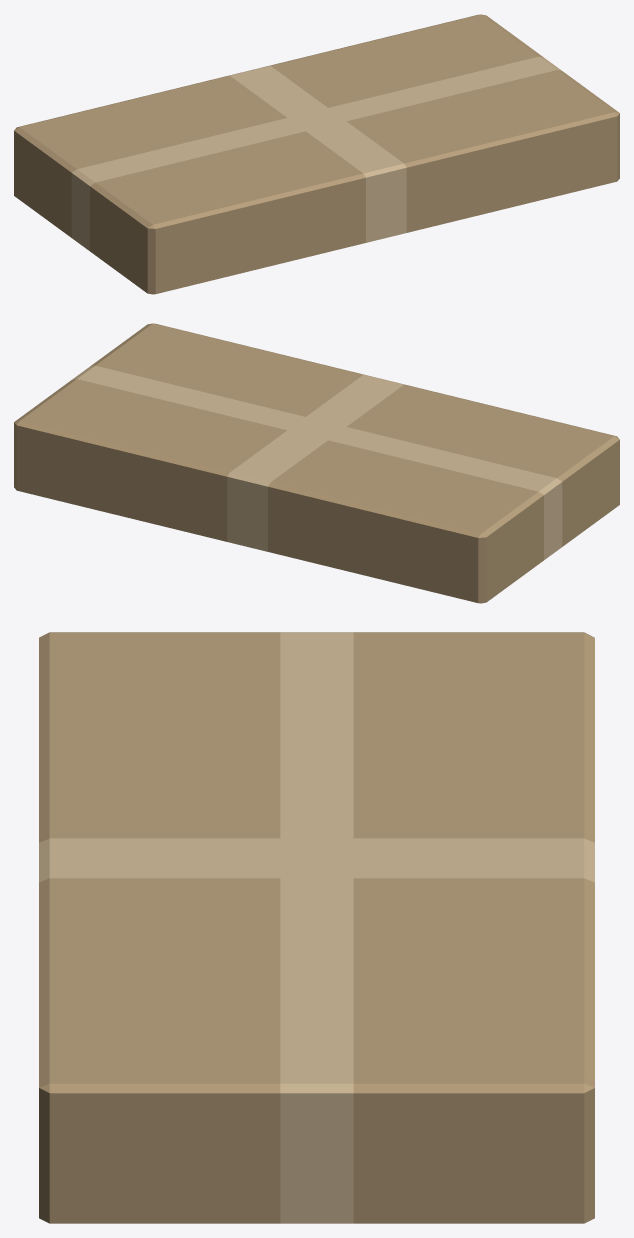
Rendered from Scatolone_3.fbx.
3 views of the same model, one above another, from view 1: azimuth 30°, elevation 25°; view 2: azimuth 150°, elevation 25°; view 3: azimuth 270°, elevation 25° (orthographic). The views are drawn at different scales.
Visible parts, largest first — view 1: Scatolone_3; view 2: Scatolone_3; view 3: Scatolone_3.
Part boxes in pixels (x1,y1,x2,y2): Scatolone_3: [14, 14, 619, 294]; Scatolone_3: [14, 323, 619, 603]; Scatolone_3: [39, 632, 594, 1223].
Size of the model in its own units: 1.69 by 0.2386 by 0.8621.
